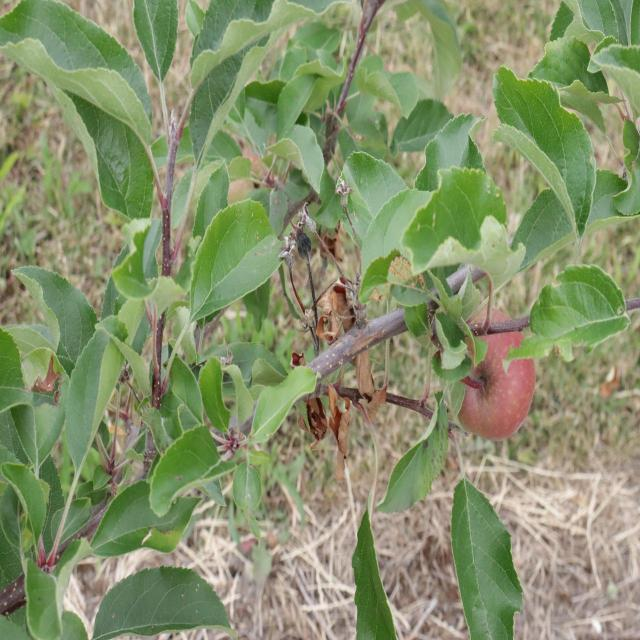-FireBlight-: (300, 223, 366, 365), (303, 355, 382, 466)
